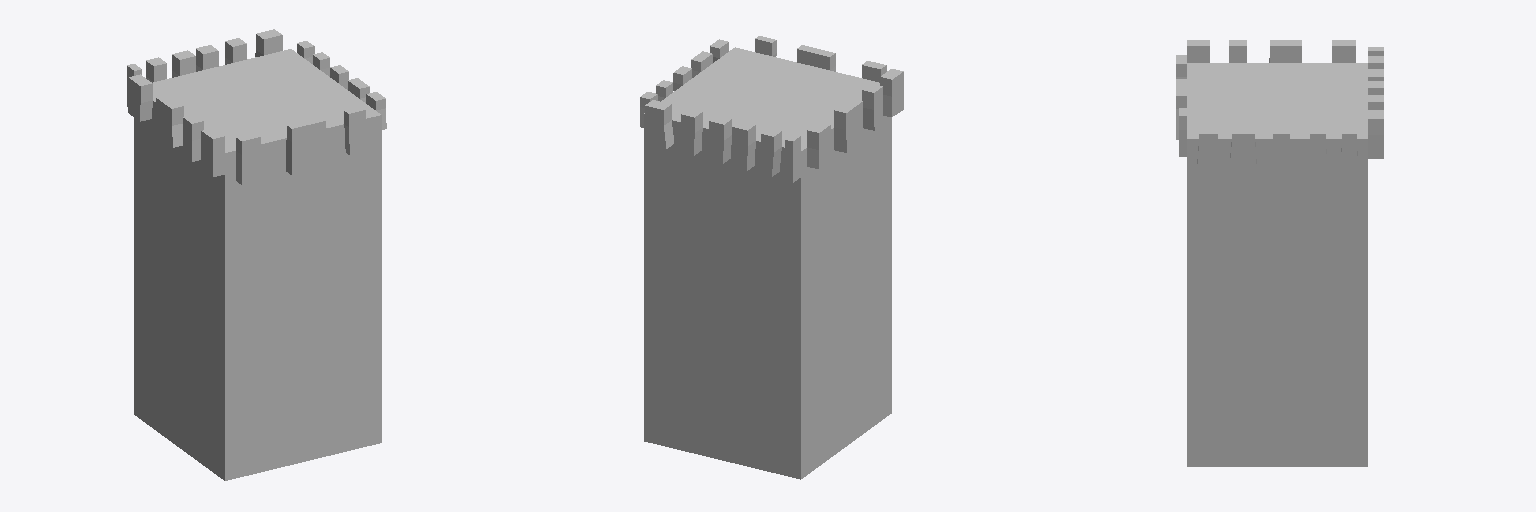
File: wei_yi_ta.obj
The picture shows the model from 3 angles: view 1: azimuth 30°, elevation 25°; view 2: azimuth 150°, elevation 25°; view 3: azimuth 270°, elevation 25°; orthographic projection.
Parts seen in each view (by area): view 1: 位移塔_Cube.001; view 2: 位移塔_Cube.001; view 3: 位移塔_Cube.001.
Boxes of the visible parts, <box> form: 位移塔_Cube.001: <box>127,29,386,480</box>; 位移塔_Cube.001: <box>640,36,903,479</box>; 位移塔_Cube.001: <box>1176,40,1383,466</box>.
Bounding box in the file's own units: 2.28 × 4.21 × 2.31.